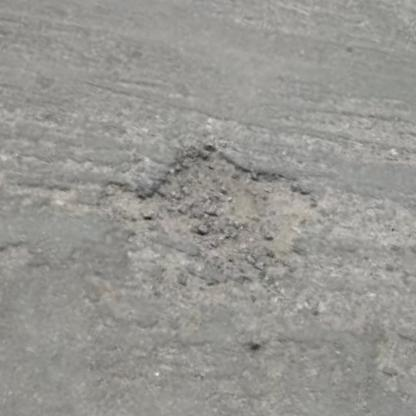pothole: (97, 104, 340, 300)
